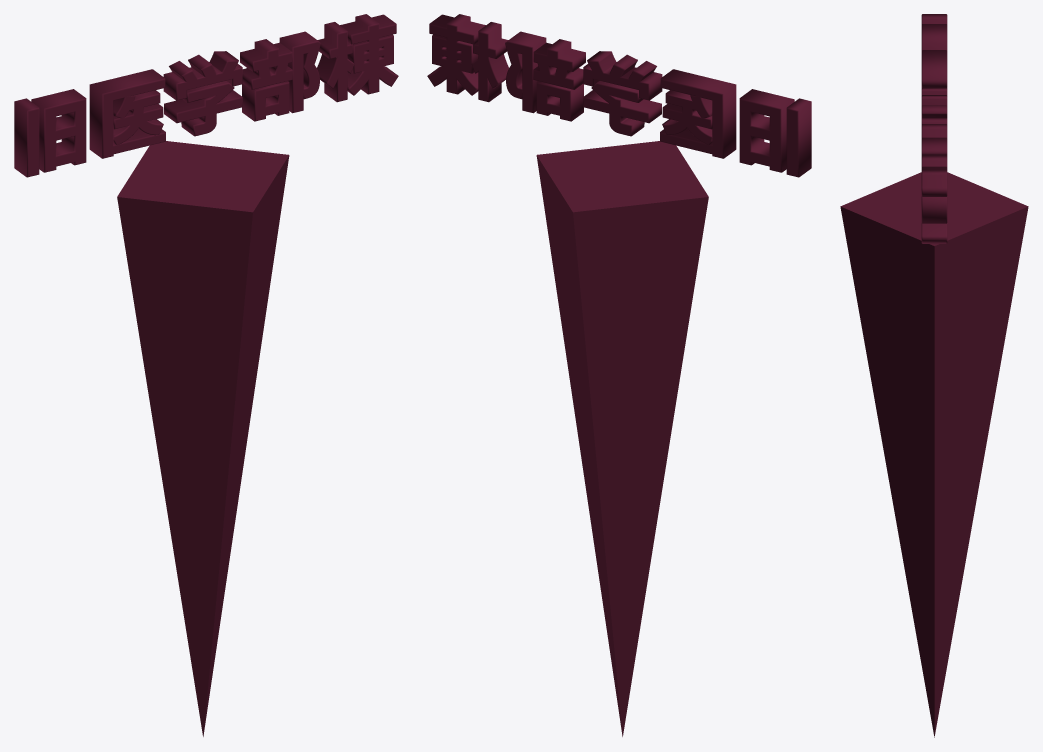
The model's file is KyuIgakubutou.glb.
3 views of the same model, side by side, from view 1: azimuth 30°, elevation 25°; view 2: azimuth 150°, elevation 25°; view 3: azimuth 270°, elevation 25° (orthographic). The views are drawn at different scales.
Visible parts, largest first — view 1: Cone, Text.002; view 2: Cone, Text.002; view 3: Cone, Text.002.
Boxes of the visible parts, x1,y1,x2,y2 form: Cone: [117, 141, 289, 736]; Text.002: [14, 14, 398, 177]; Cone: [536, 141, 708, 736]; Text.002: [427, 14, 811, 177]; Cone: [840, 172, 1028, 737]; Text.002: [921, 14, 947, 243].
Size of the model in its own units: 3.46 by 6.03 by 1.6.
